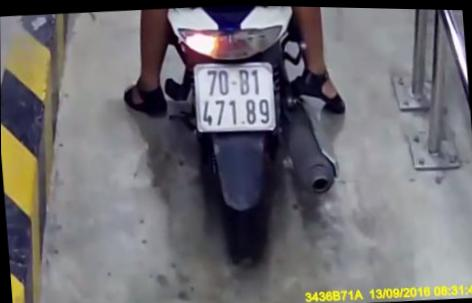LP: (191, 57, 277, 134)
